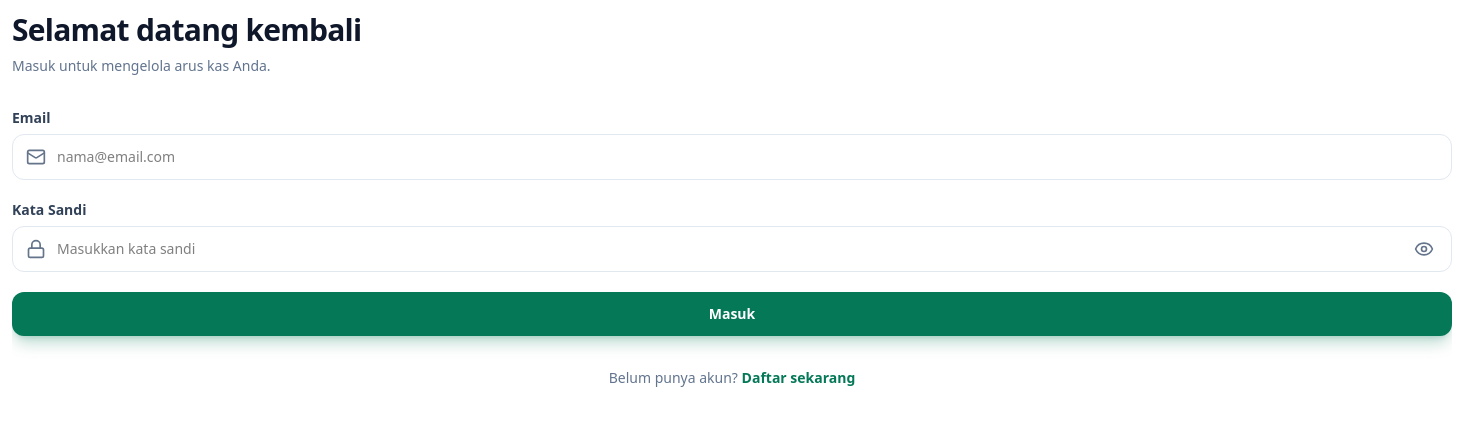
Test: validasi › hanya menampilkan error kata sandi bila email sudah benar
This screenshot has width=1464, height=426.
Type "a@b.com" into the field with id "login-email-input" at coordinates (732, 157), box [12, 134, 1452, 180]
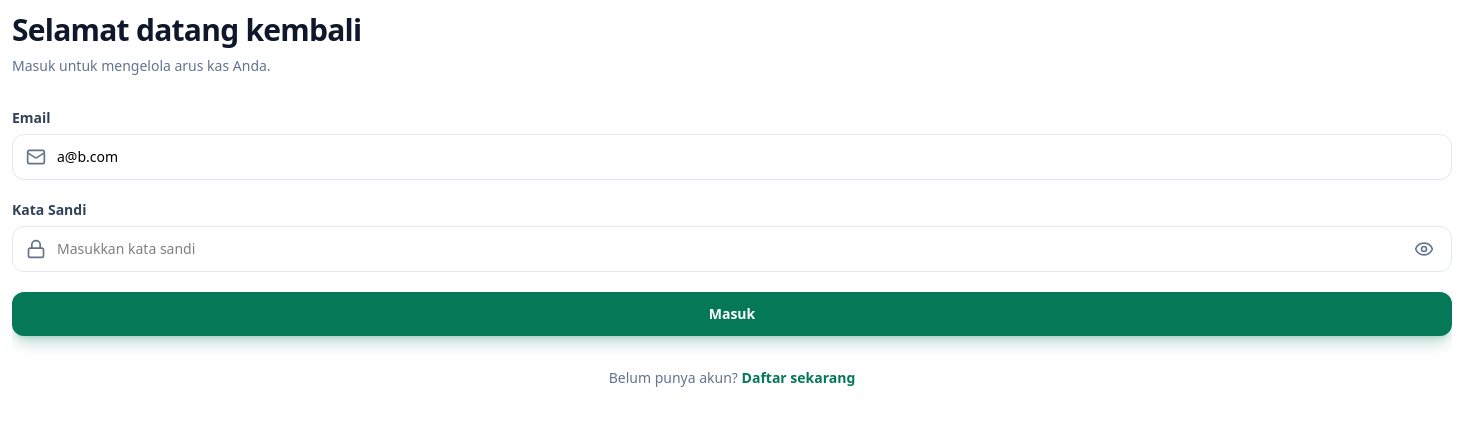
Submit the form, box [12, 108, 1452, 336]
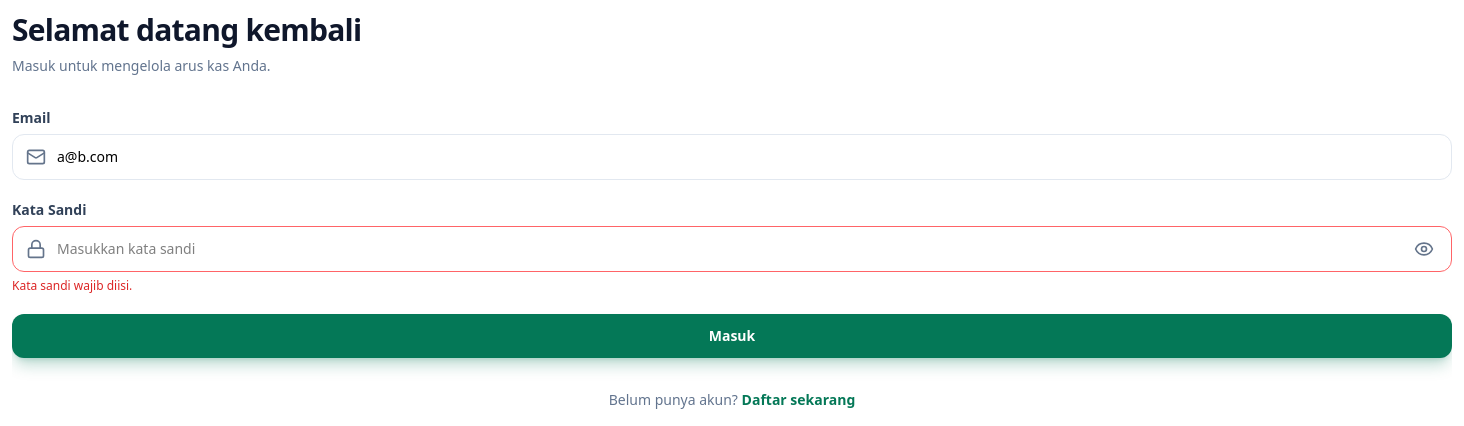
Now the text "Kata sandi wajib diisi." is shown, box [12, 277, 132, 294]
